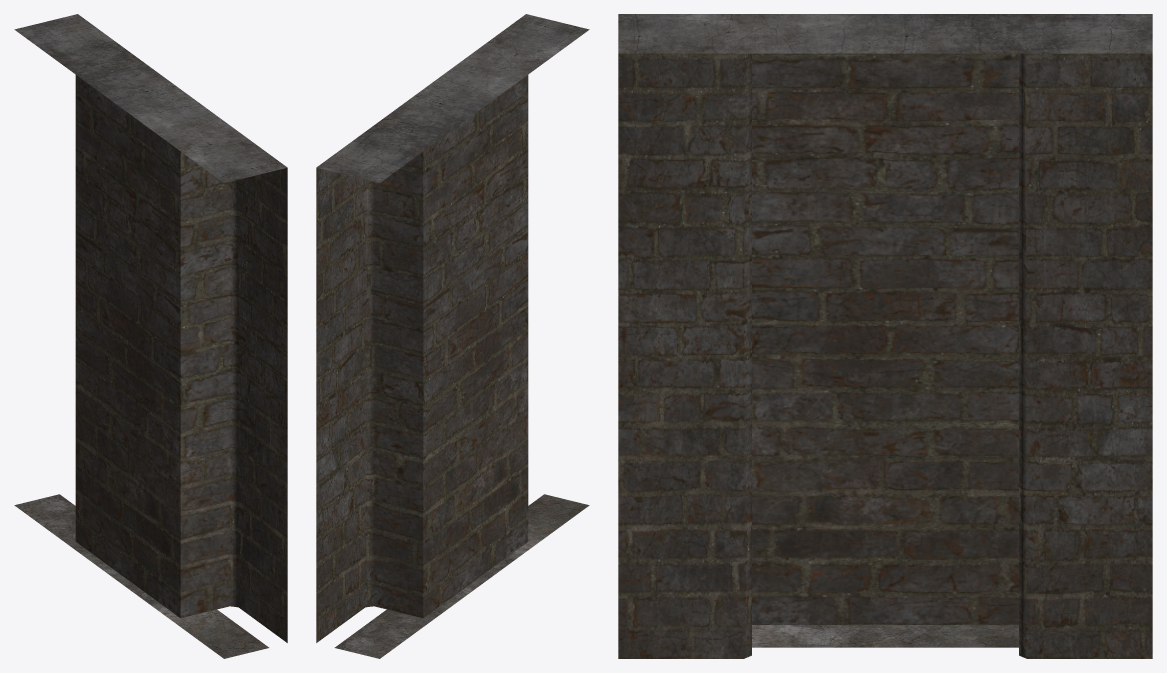
File: Basement_Corridor_A_Wall_2m_Shaft.glb
3 renders of one model, left to right at view 1: azimuth 30°, elevation 25°; view 2: azimuth 150°, elevation 25°; view 3: azimuth 270°, elevation 25°, orthographic. The views are drawn at different scales.
Visible parts, largest first — view 1: Basement_Corridor_A_Wall_2m_Shaft; view 2: Basement_Corridor_A_Wall_2m_Shaft; view 3: Basement_Corridor_A_Wall_2m_Shaft.
Part boxes in pixels (x1,y1,x2,y2): Basement_Corridor_A_Wall_2m_Shaft: (14, 14, 287, 658); Basement_Corridor_A_Wall_2m_Shaft: (316, 14, 589, 658); Basement_Corridor_A_Wall_2m_Shaft: (618, 14, 1152, 658).
Size of the model in its own units: 0.35 by 2.5 by 2.
3 materials, 3 textured.
